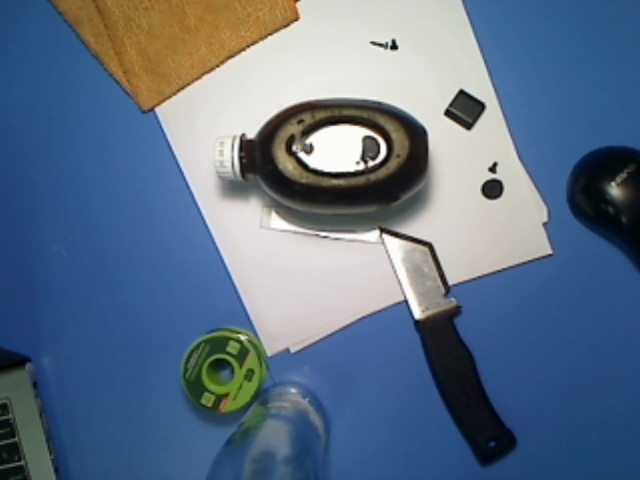plast_bottle: (210, 91, 435, 222)
